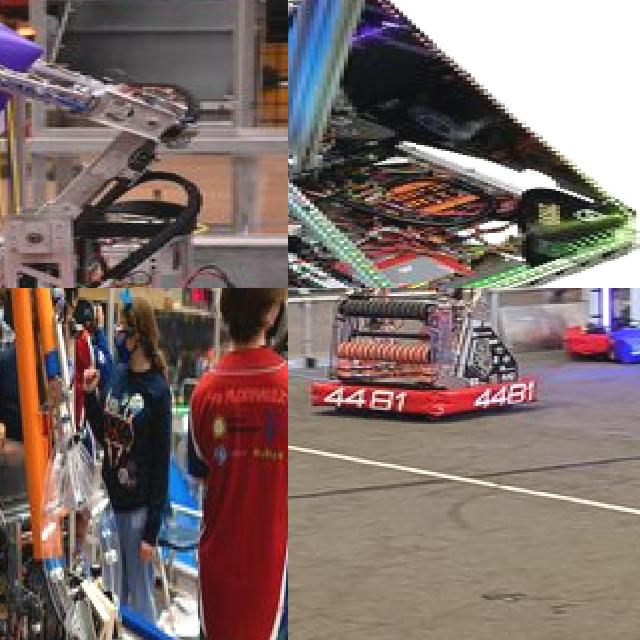FRC-Robots: (288, 0, 640, 288), (0, 288, 254, 640), (0, 1, 288, 288), (0, 92, 288, 288), (288, 288, 519, 471), (561, 288, 640, 419)
